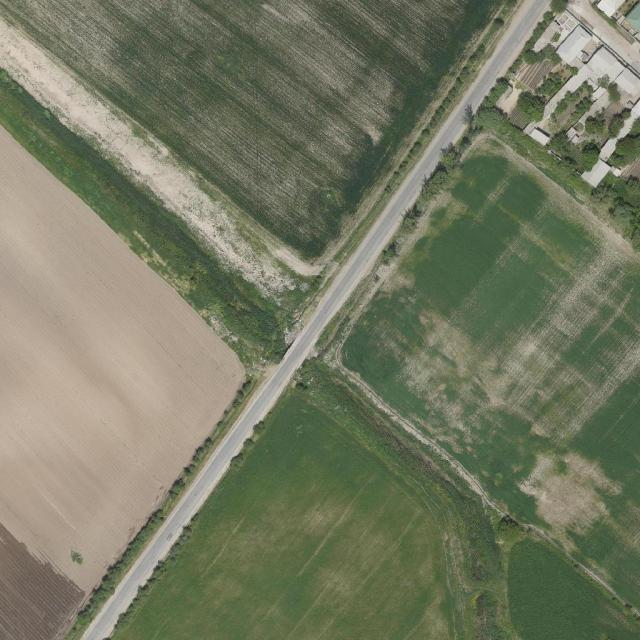agricultural_land: (311, 131, 640, 610), (112, 366, 590, 640), (0, 126, 244, 640), (0, 524, 85, 640), (516, 53, 558, 94)
building: (532, 63, 594, 126), (553, 24, 593, 65), (585, 46, 626, 86), (580, 156, 612, 189), (494, 82, 522, 115), (614, 66, 640, 98), (596, 135, 621, 162), (595, 0, 624, 19), (529, 126, 552, 146), (589, 84, 607, 101)
dryland: (0, 16, 324, 314)
greenland: (0, 69, 327, 380), (418, 127, 478, 206), (543, 130, 602, 177), (608, 179, 640, 249), (535, 66, 569, 101), (603, 104, 634, 140), (514, 90, 546, 124), (476, 106, 509, 131), (584, 111, 607, 137), (621, 157, 640, 179), (385, 240, 399, 257)
